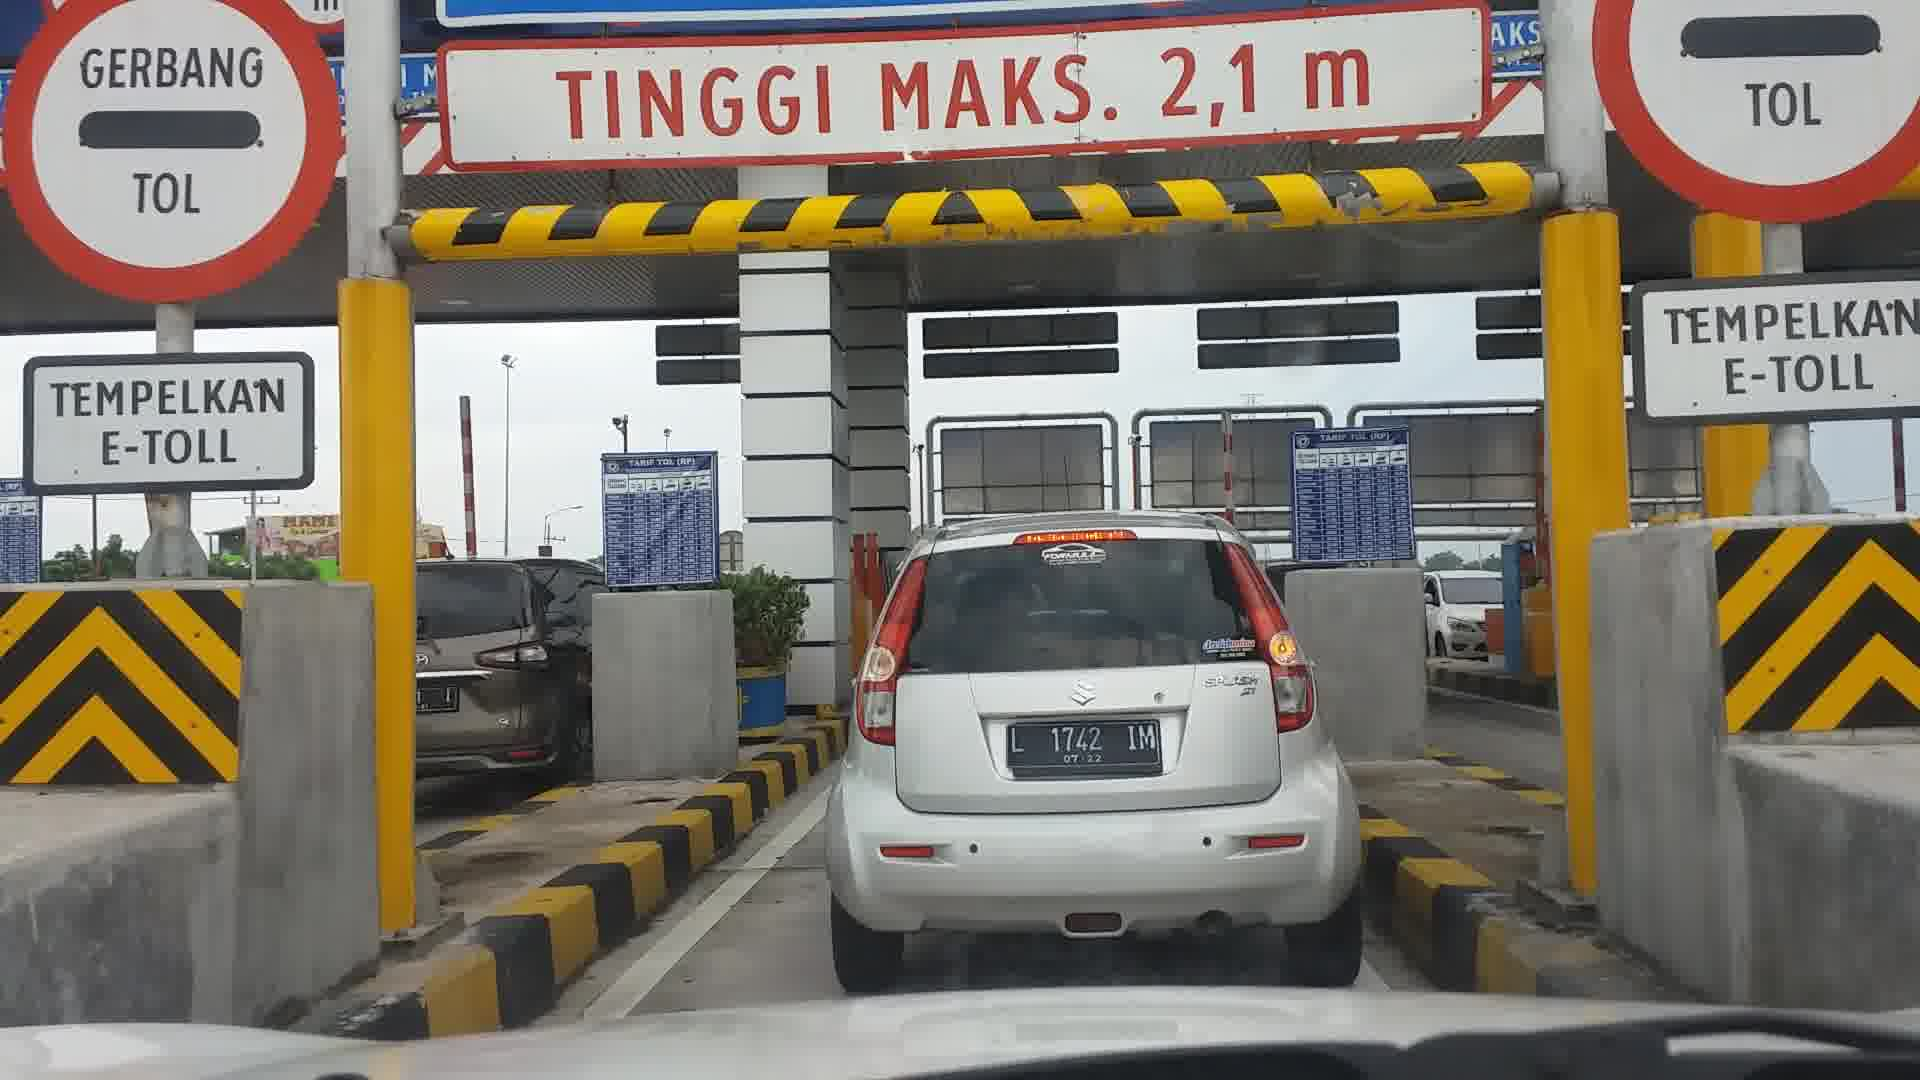plate_positive: (1006, 721, 1163, 778)
